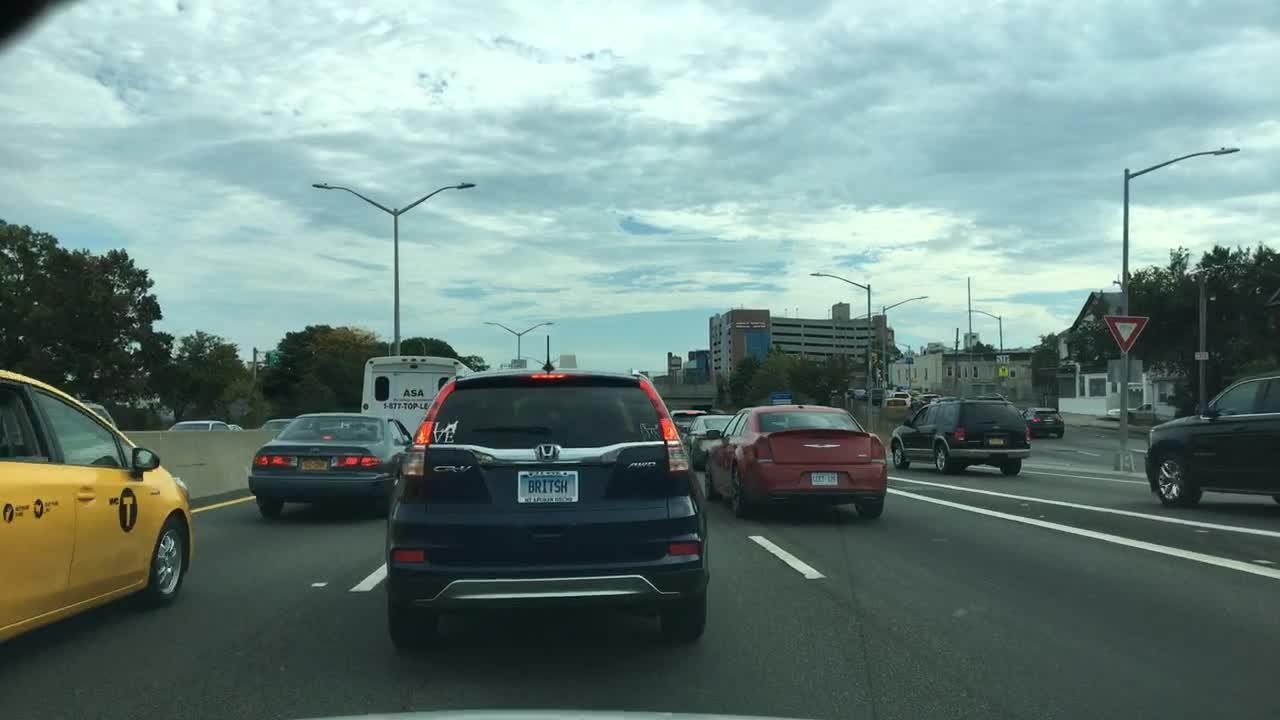Chrysler: (799, 439, 846, 454)
Honda: (534, 440, 563, 462)
